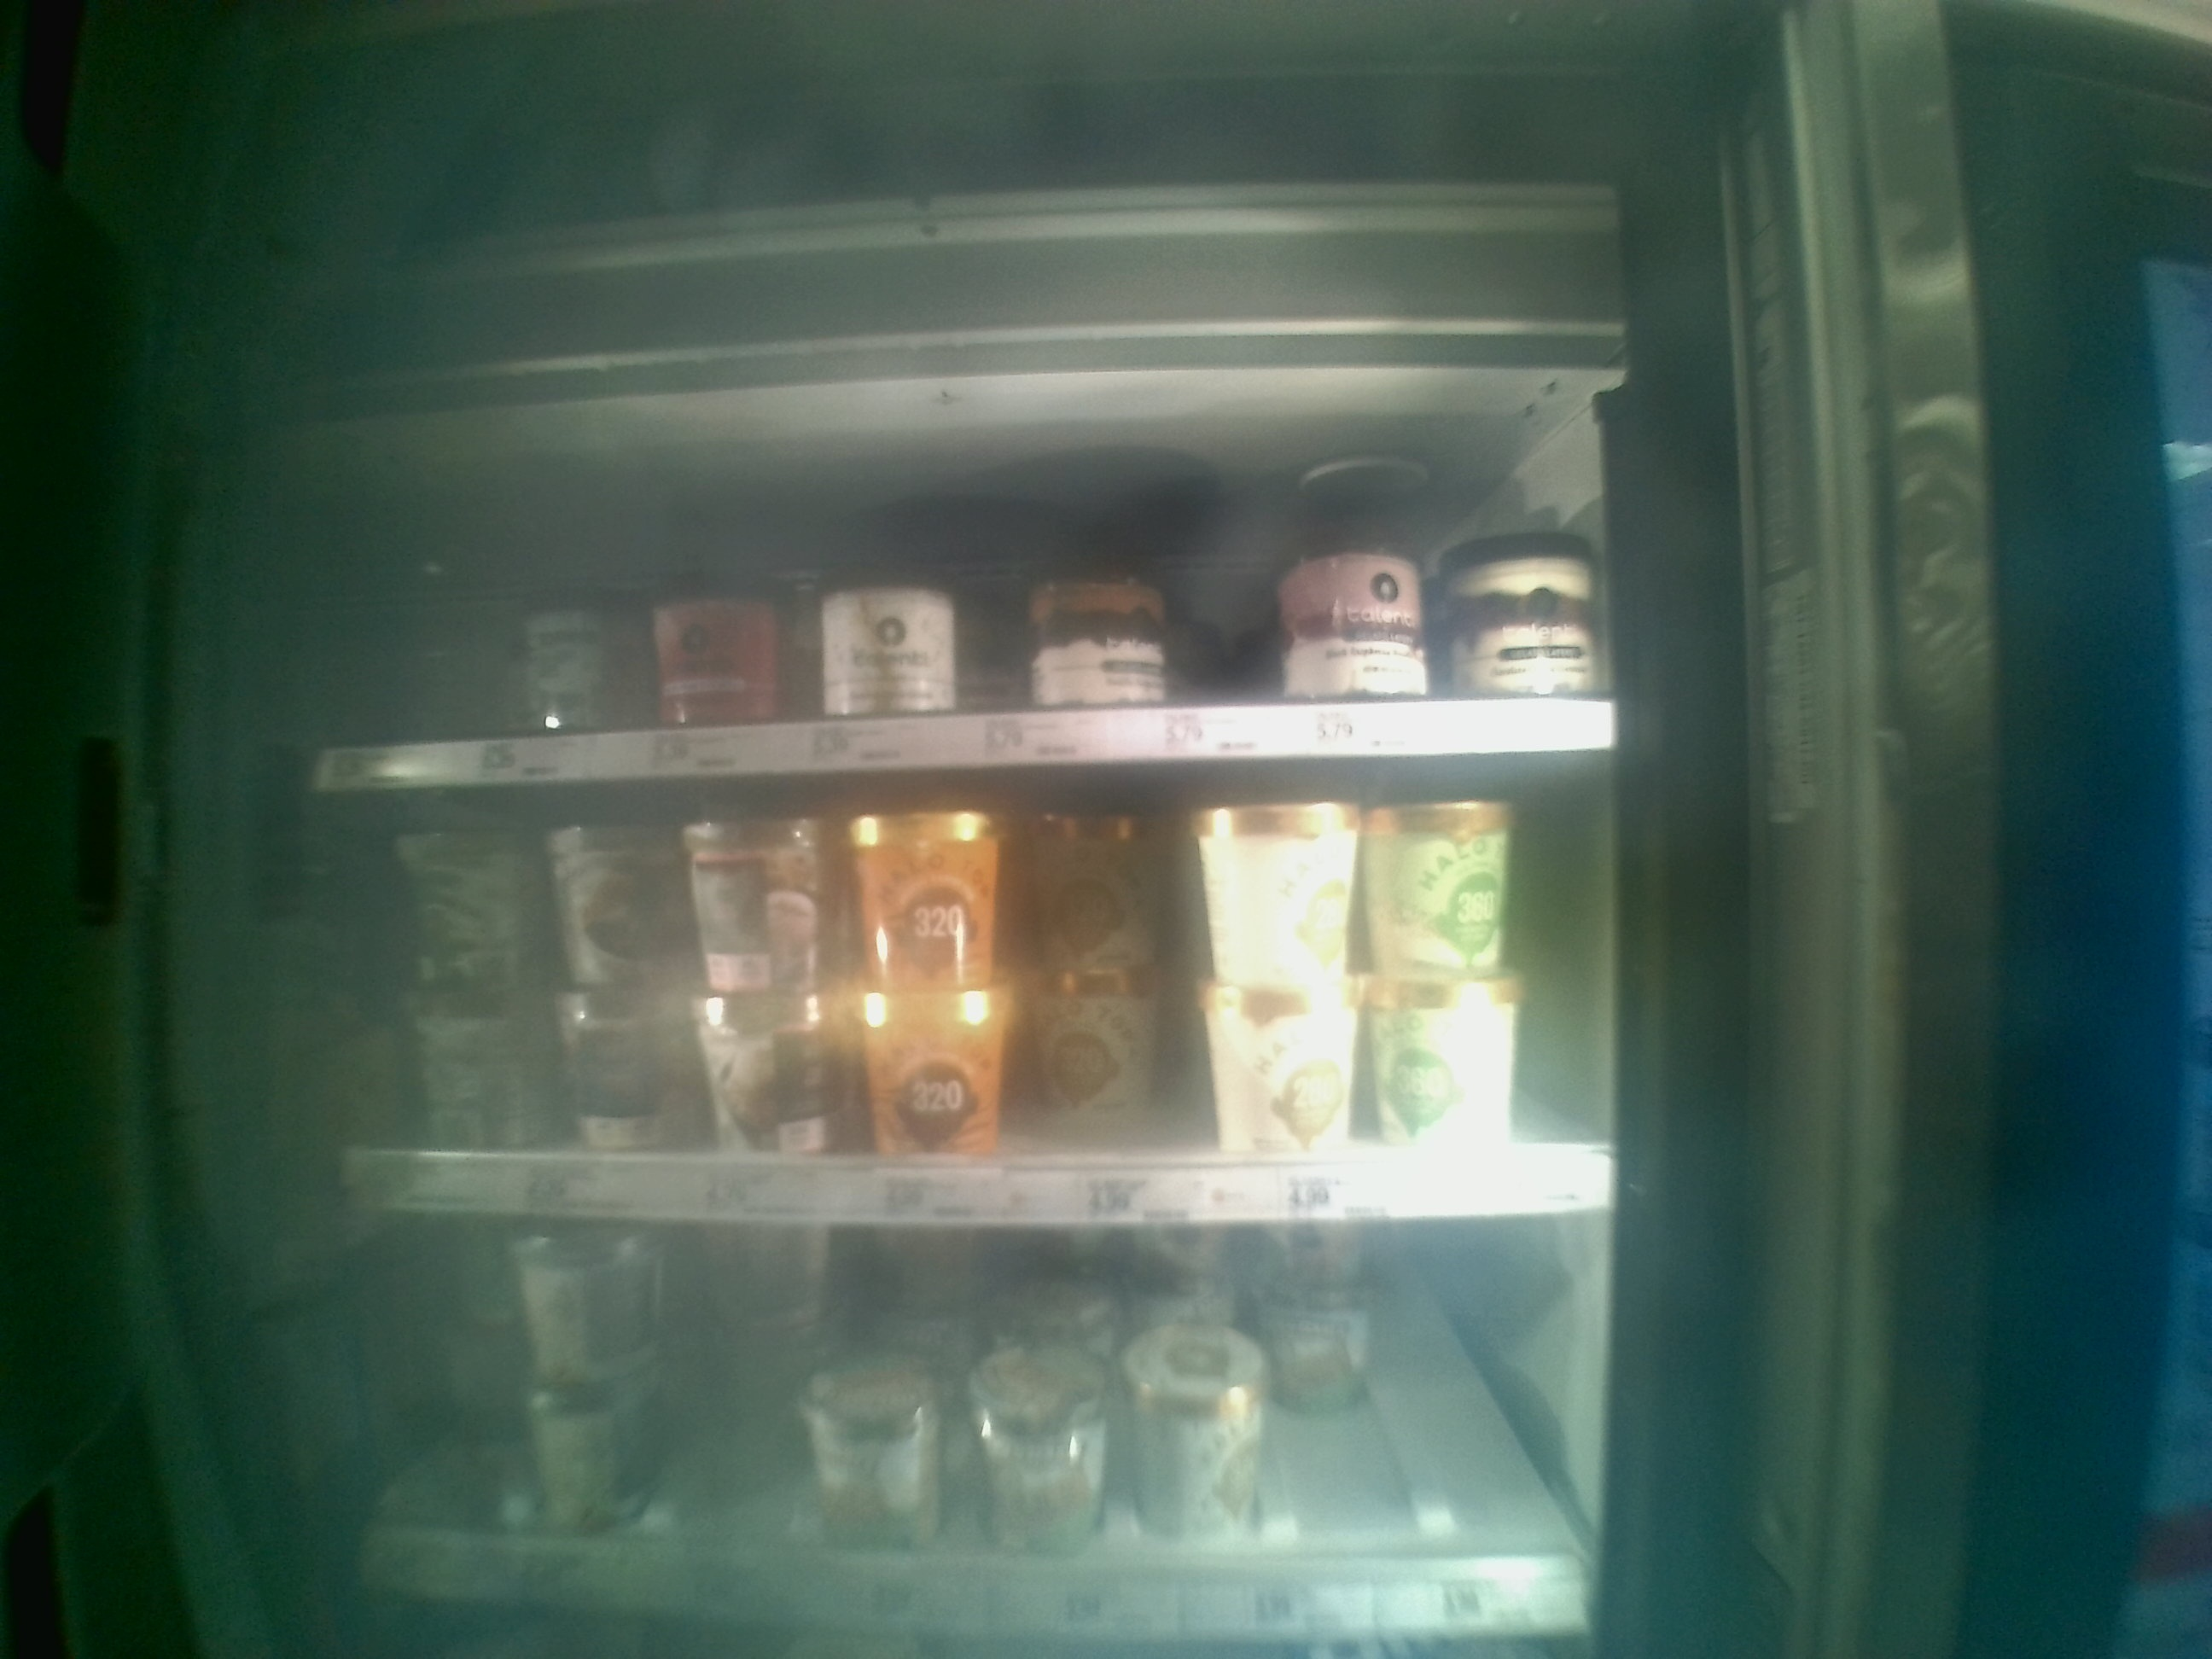shelf: (272, 788, 1611, 1220), (282, 1220, 1597, 1645), (289, 446, 1616, 758)
